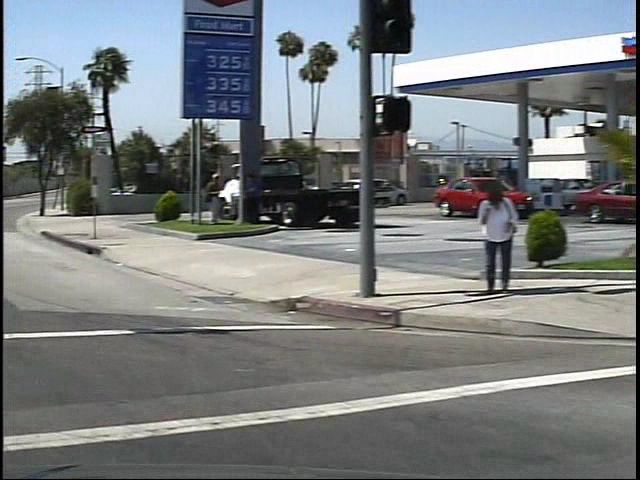person: (462, 180, 506, 298), (194, 171, 217, 230)
